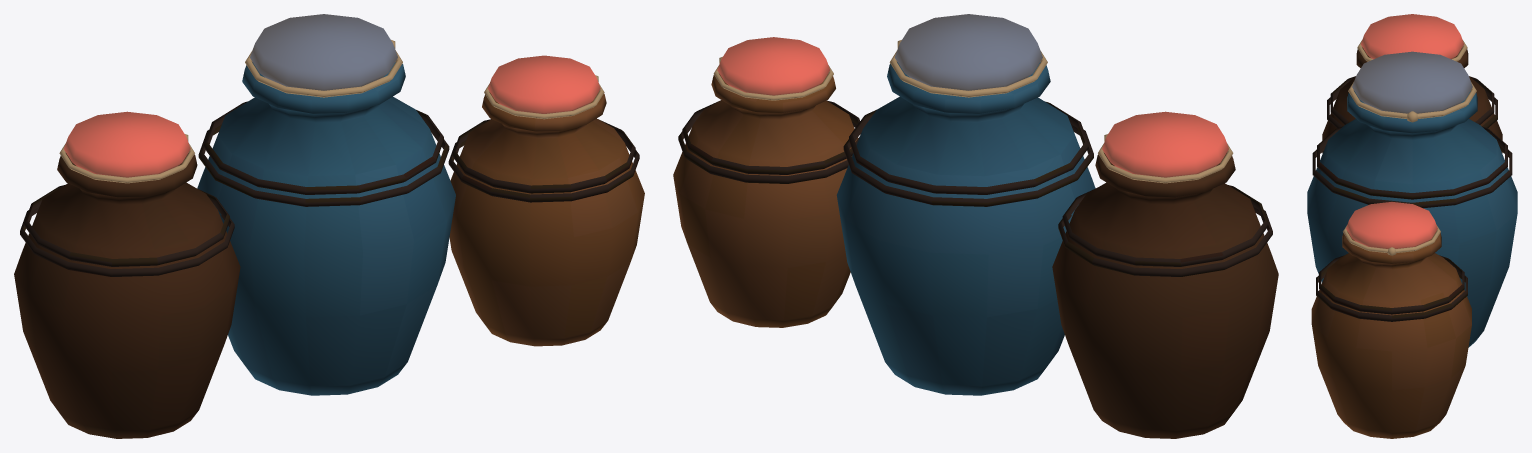
File: prop_tc_vo_ruou_2.da9d9d592e.glb
3 renders of one model, left to right at view 1: azimuth 30°, elevation 25°; view 2: azimuth 150°, elevation 25°; view 3: azimuth 270°, elevation 25°, orthographic. The views are drawn at different scales.
Visible parts, largest first — view 1: prop_tc_vo_ruou_2; view 2: prop_tc_vo_ruou_2; view 3: prop_tc_vo_ruou_2.
Part boxes in pixels (<box>): prop_tc_vo_ruou_2: <box>14,14,644,438</box>; prop_tc_vo_ruou_2: <box>673,14,1278,438</box>; prop_tc_vo_ruou_2: <box>1307,14,1517,438</box>.
Size of what is drawn, in the model's own units: 2.7 by 1.43 by 1.02.
